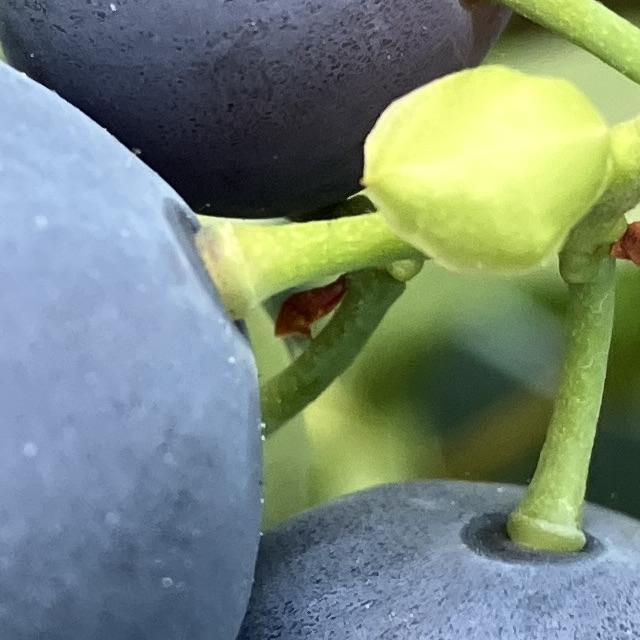Blueberries: (0, 12, 266, 640), (82, 472, 640, 640)
